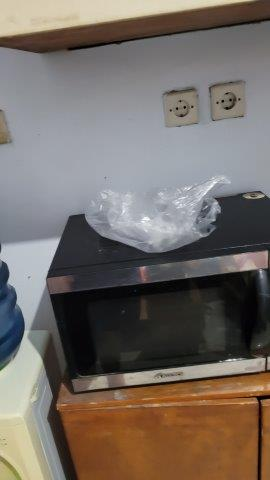plastik: (84, 175, 231, 251)
